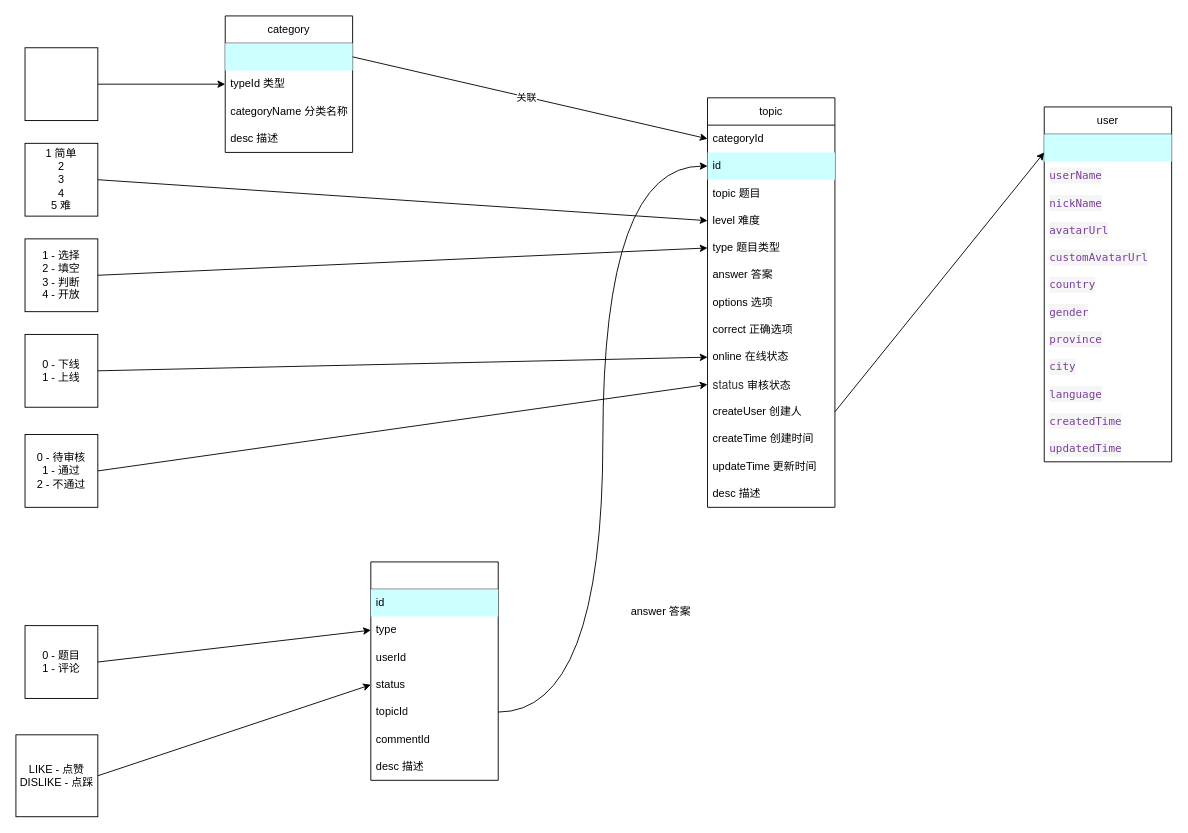
Some shapes in this 1188 by 833 pixel diagram are drawn without their labels. The box of each missing label's shape, as (x1, y1, x2, y2) in pixels:
0 - 前端 1 - 后端: (24, 47, 98, 121)
categoryId 分类id: (225, 43, 352, 70)
likeStatus: (370, 561, 498, 780)
openid: (1044, 134, 1171, 161)
